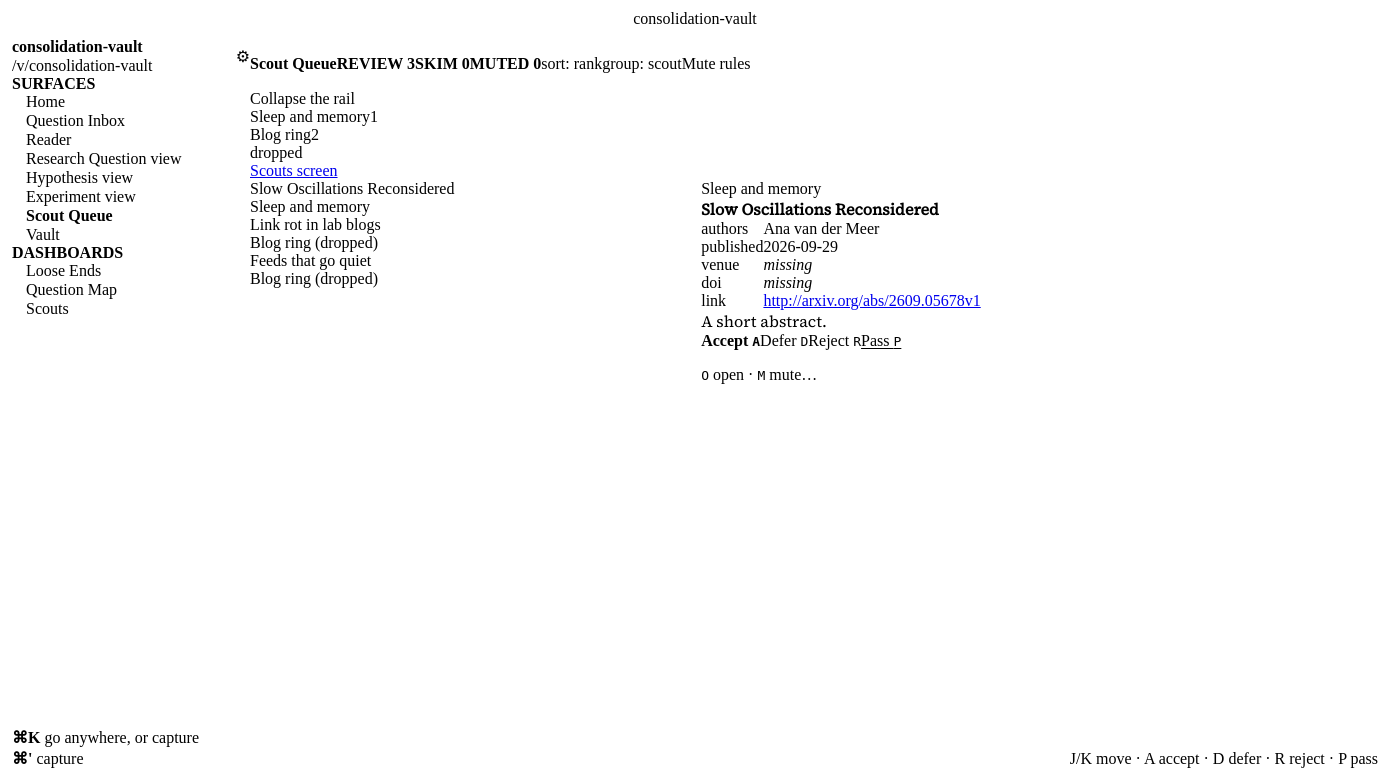
Test: the Scout Queue — a dropped Scout › says nothing of what a Scout that is still looking deferred, which comes back with its next run by itself
Click the button "Sleep and memory 1". click: (338, 117)
box: [250,108,426,126]
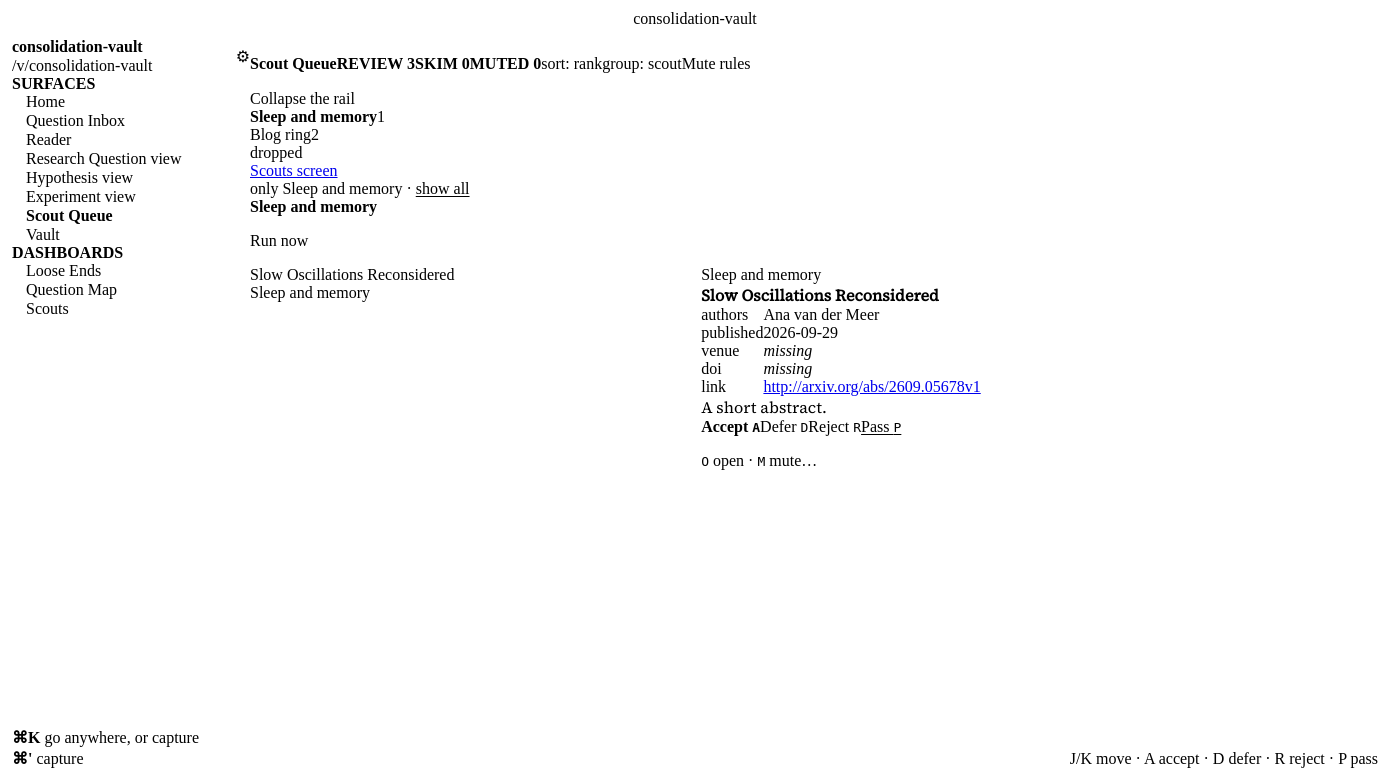
Check: the heading "Sleep and memory" is shown, box [250,198,377,215]
